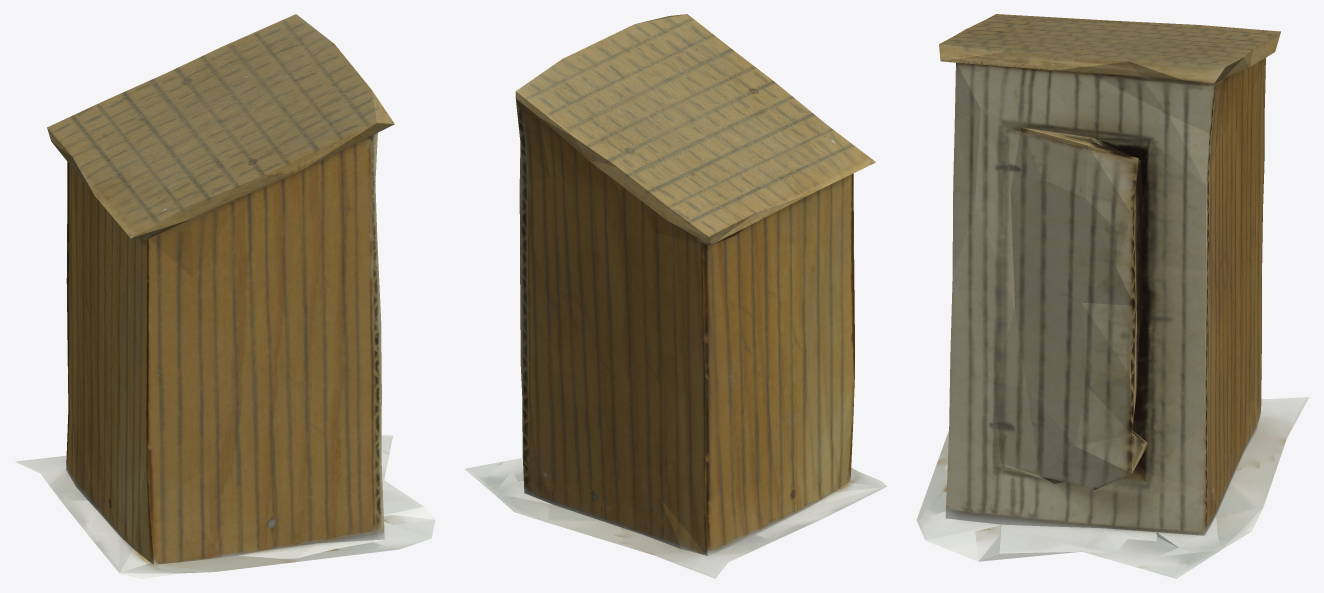
Rendered from mdl_bat_ete_99.fbx.
3 renders of one model, left to right at view 1: azimuth 30°, elevation 25°; view 2: azimuth 150°, elevation 25°; view 3: azimuth 270°, elevation 25°, orthographic. The views are drawn at different scales.
Visible parts, largest first — view 1: mdl_bat_ete_99; view 2: mdl_bat_ete_99; view 3: mdl_bat_ete_99.
Part boxes in pixels (<box>): mdl_bat_ete_99: <box>15,14,435,578</box>; mdl_bat_ete_99: <box>465,14,887,578</box>; mdl_bat_ete_99: <box>916,14,1309,578</box>.
Bounding box in the file's own units: 3.75 × 4.44 × 3.24.
1 material, 1 textured.
